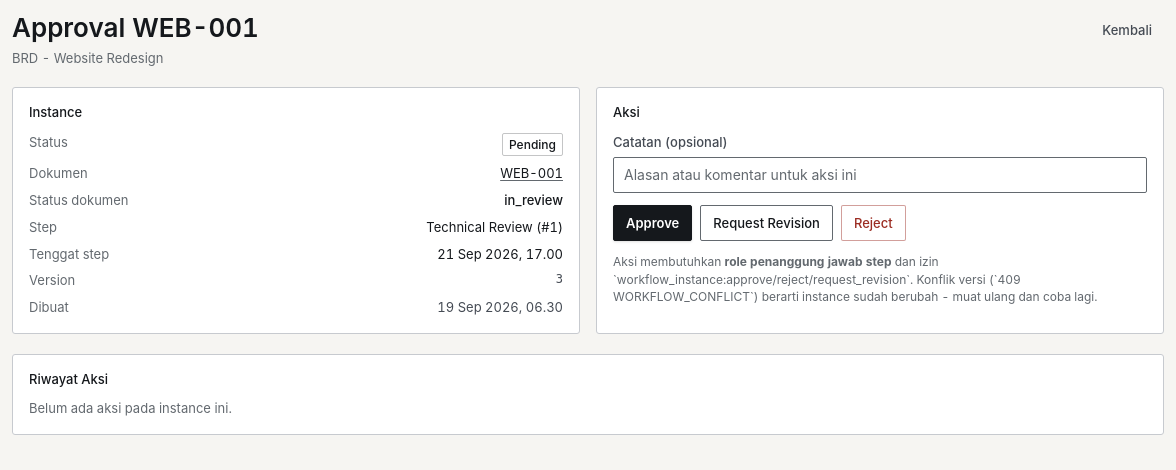
Test: halaman Approvals — detail › mengirim aksi approve dengan version dari instance dan comment terpangkas
The width and height of the screenshot is (1176, 470).
Check: the button "Approve" is shown, box x1=613 y1=205 x2=692 y2=241
Type "  Looks good  " into the field labelled "Catatan (opsional)" at (880,175), box x1=613 y1=157 x2=1147 y2=193
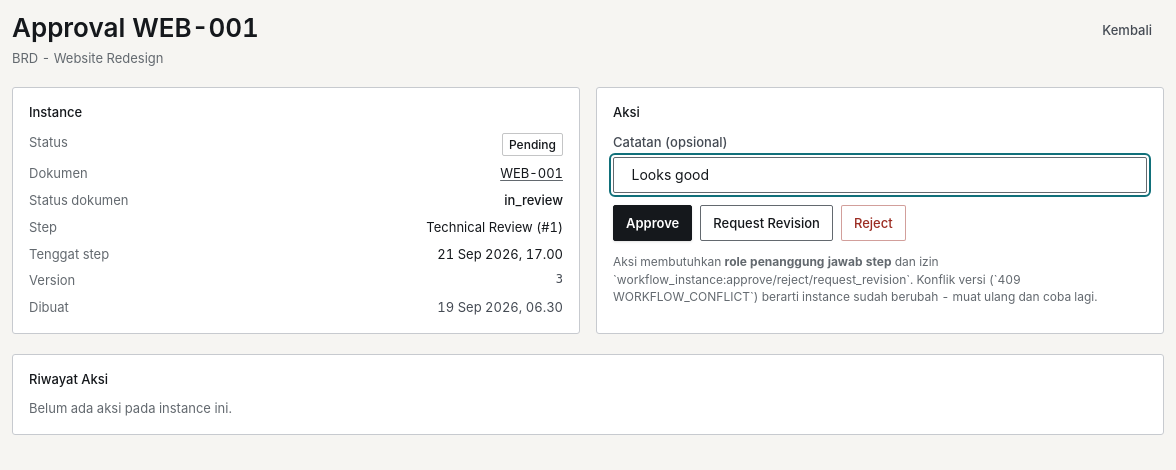
Click the button "Approve" at (653,223), box x1=613 y1=205 x2=692 y2=241
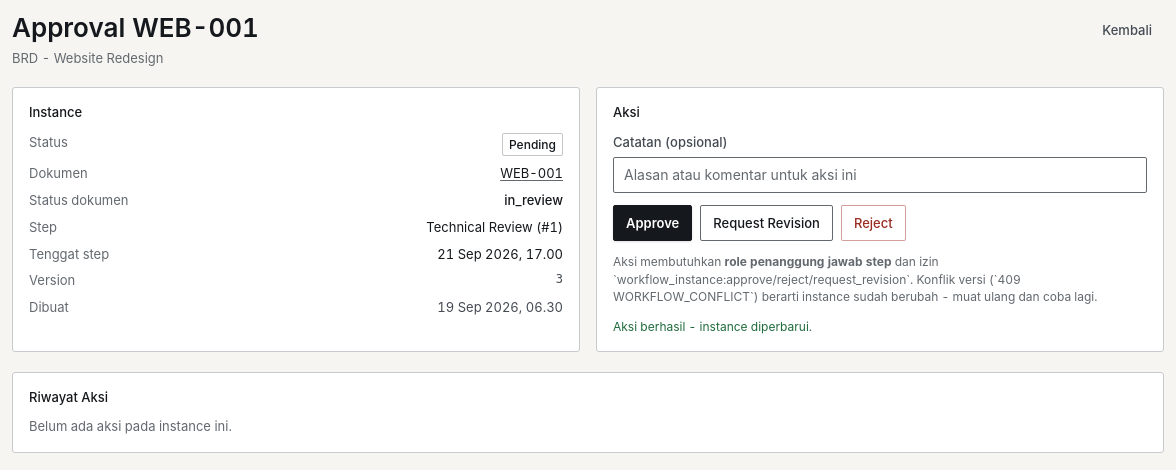
Check: the text "Aksi berhasil - instance diperbarui." is shown, box x1=613 y1=319 x2=812 y2=334
